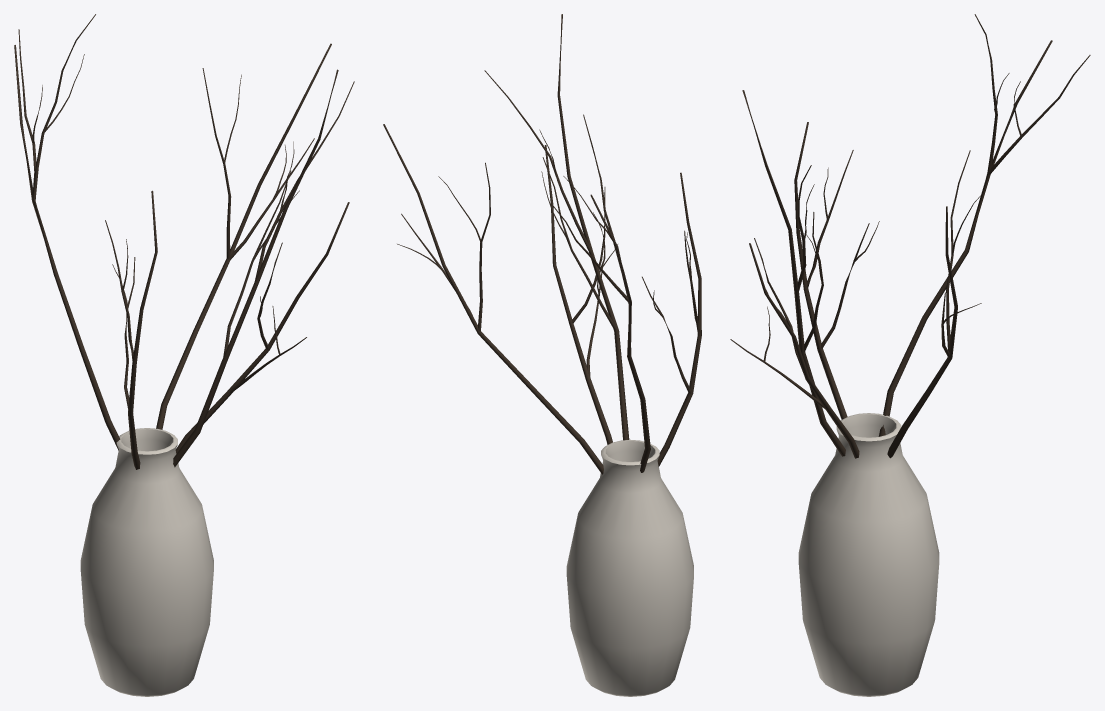
File: decor_a_floor_b.gltf
3 views of the same model, side by side, from view 1: azimuth 30°, elevation 25°; view 2: azimuth 150°, elevation 25°; view 3: azimuth 270°, elevation 25° (orthographic). The views are drawn at different scales.
Visible parts, largest first — view 1: DecorAFloorB_stoneware, DecorAFloorB_twig_NoCollide; view 2: DecorAFloorB_stoneware, DecorAFloorB_twig_NoCollide; view 3: DecorAFloorB_stoneware, DecorAFloorB_twig_NoCollide.
Part boxes in pixels (box(x1,y1,x2,y2)): DecorAFloorB_stoneware: box(80, 428, 213, 696); DecorAFloorB_twig_NoCollide: box(14, 14, 354, 469); DecorAFloorB_stoneware: box(566, 439, 693, 696); DecorAFloorB_twig_NoCollide: box(383, 14, 701, 474); DecorAFloorB_stoneware: box(798, 413, 939, 696); DecorAFloorB_twig_NoCollide: box(730, 14, 1090, 458).
Size of the model in its own units: 0.7652 by 1.64 by 0.8073.
